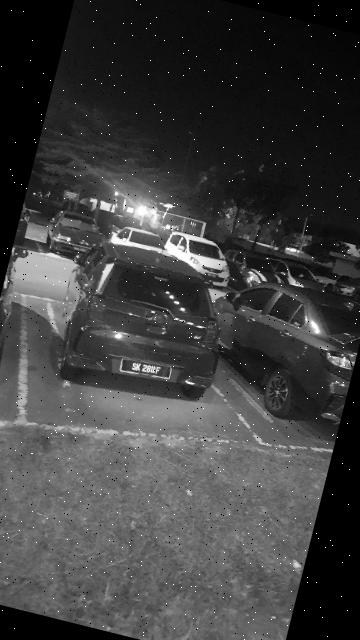License_Plate: (118, 355, 179, 387)
car: (43, 232, 242, 413), (196, 265, 360, 432)
